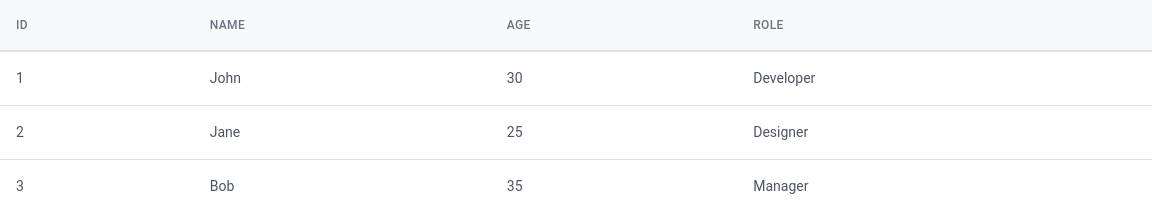
Test case: Shared UI Components Integration Tests › Table 컴포넌트 › 정렬 기능이 동작한다
This screenshot has width=1152, height=211.
Click the text "Age" at (519, 25), box [507,18,531,32]
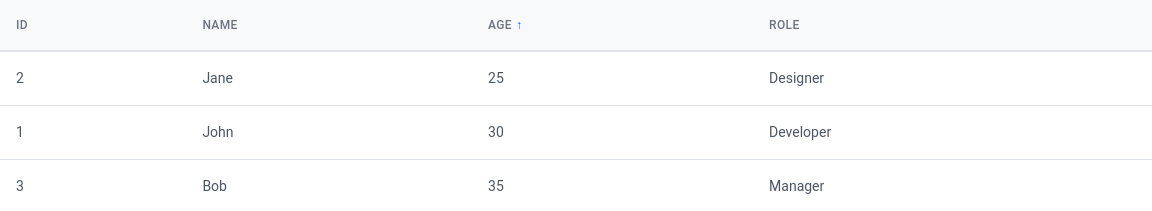
Expected: the text "↑" is shown, [516,16,522,34]
